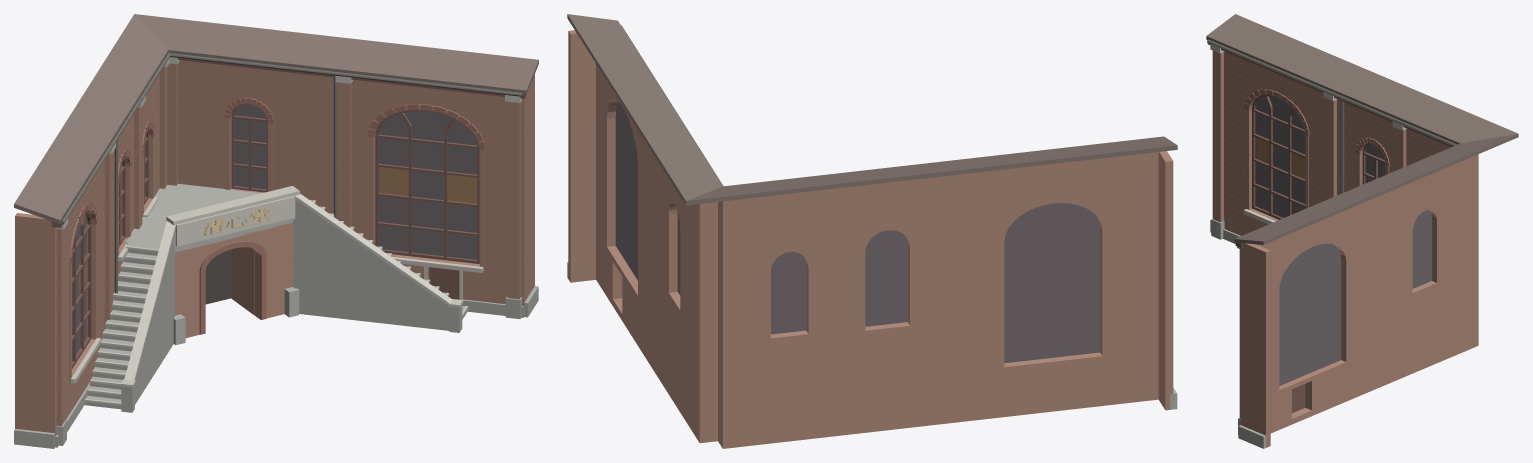
The model's file is huangpu-pure-heart-church-lod.glb.
The picture shows the model from 3 angles, left to right: view 1: azimuth 30°, elevation 25°; view 2: azimuth 150°, elevation 25°; view 3: azimuth 270°, elevation 25°; orthographic projection. The views are drawn at different scales.
Parts seen in each view (by area): view 1: 清心堂主堂东北内庭（两翼拱窗、双梯与中央门洞）; view 2: 清心堂主堂东北内庭（两翼拱窗、双梯与中央门洞）; view 3: 清心堂主堂东北内庭（两翼拱窗、双梯与中央门洞）.
Boxes of the visible parts, <box> form: 清心堂主堂东北内庭（两翼拱窗、双梯与中央门洞）: <box>14,14,538,448</box>; 清心堂主堂东北内庭（两翼拱窗、双梯与中央门洞）: <box>567,14,1177,448</box>; 清心堂主堂东北内庭（两翼拱窗、双梯与中央门洞）: <box>1206,14,1518,448</box>.
Bounding box in the file's own units: 18.41 × 7.83 × 10.68.
